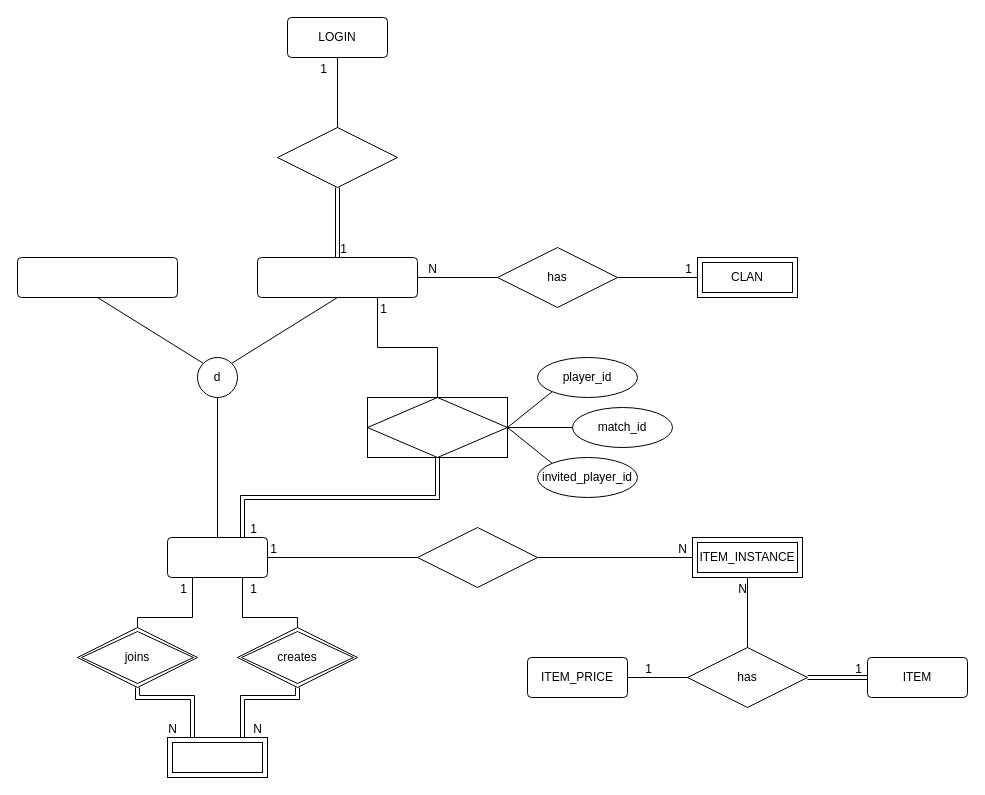
The diagram is 985 pixels wide and 795 high, and some of its shapes have lost their labels. The shapes that lost their labels are listed below. From the top down, each one's centre as x and y in pixels, then its label:
point (337, 157): registers
point (97, 277): NONREGISTEREDPLAYER
point (337, 277): REGISTEREDPLAYER
point (437, 427): invites
point (217, 557): PLAYER
point (477, 557): acquires
point (217, 757): MATCH
